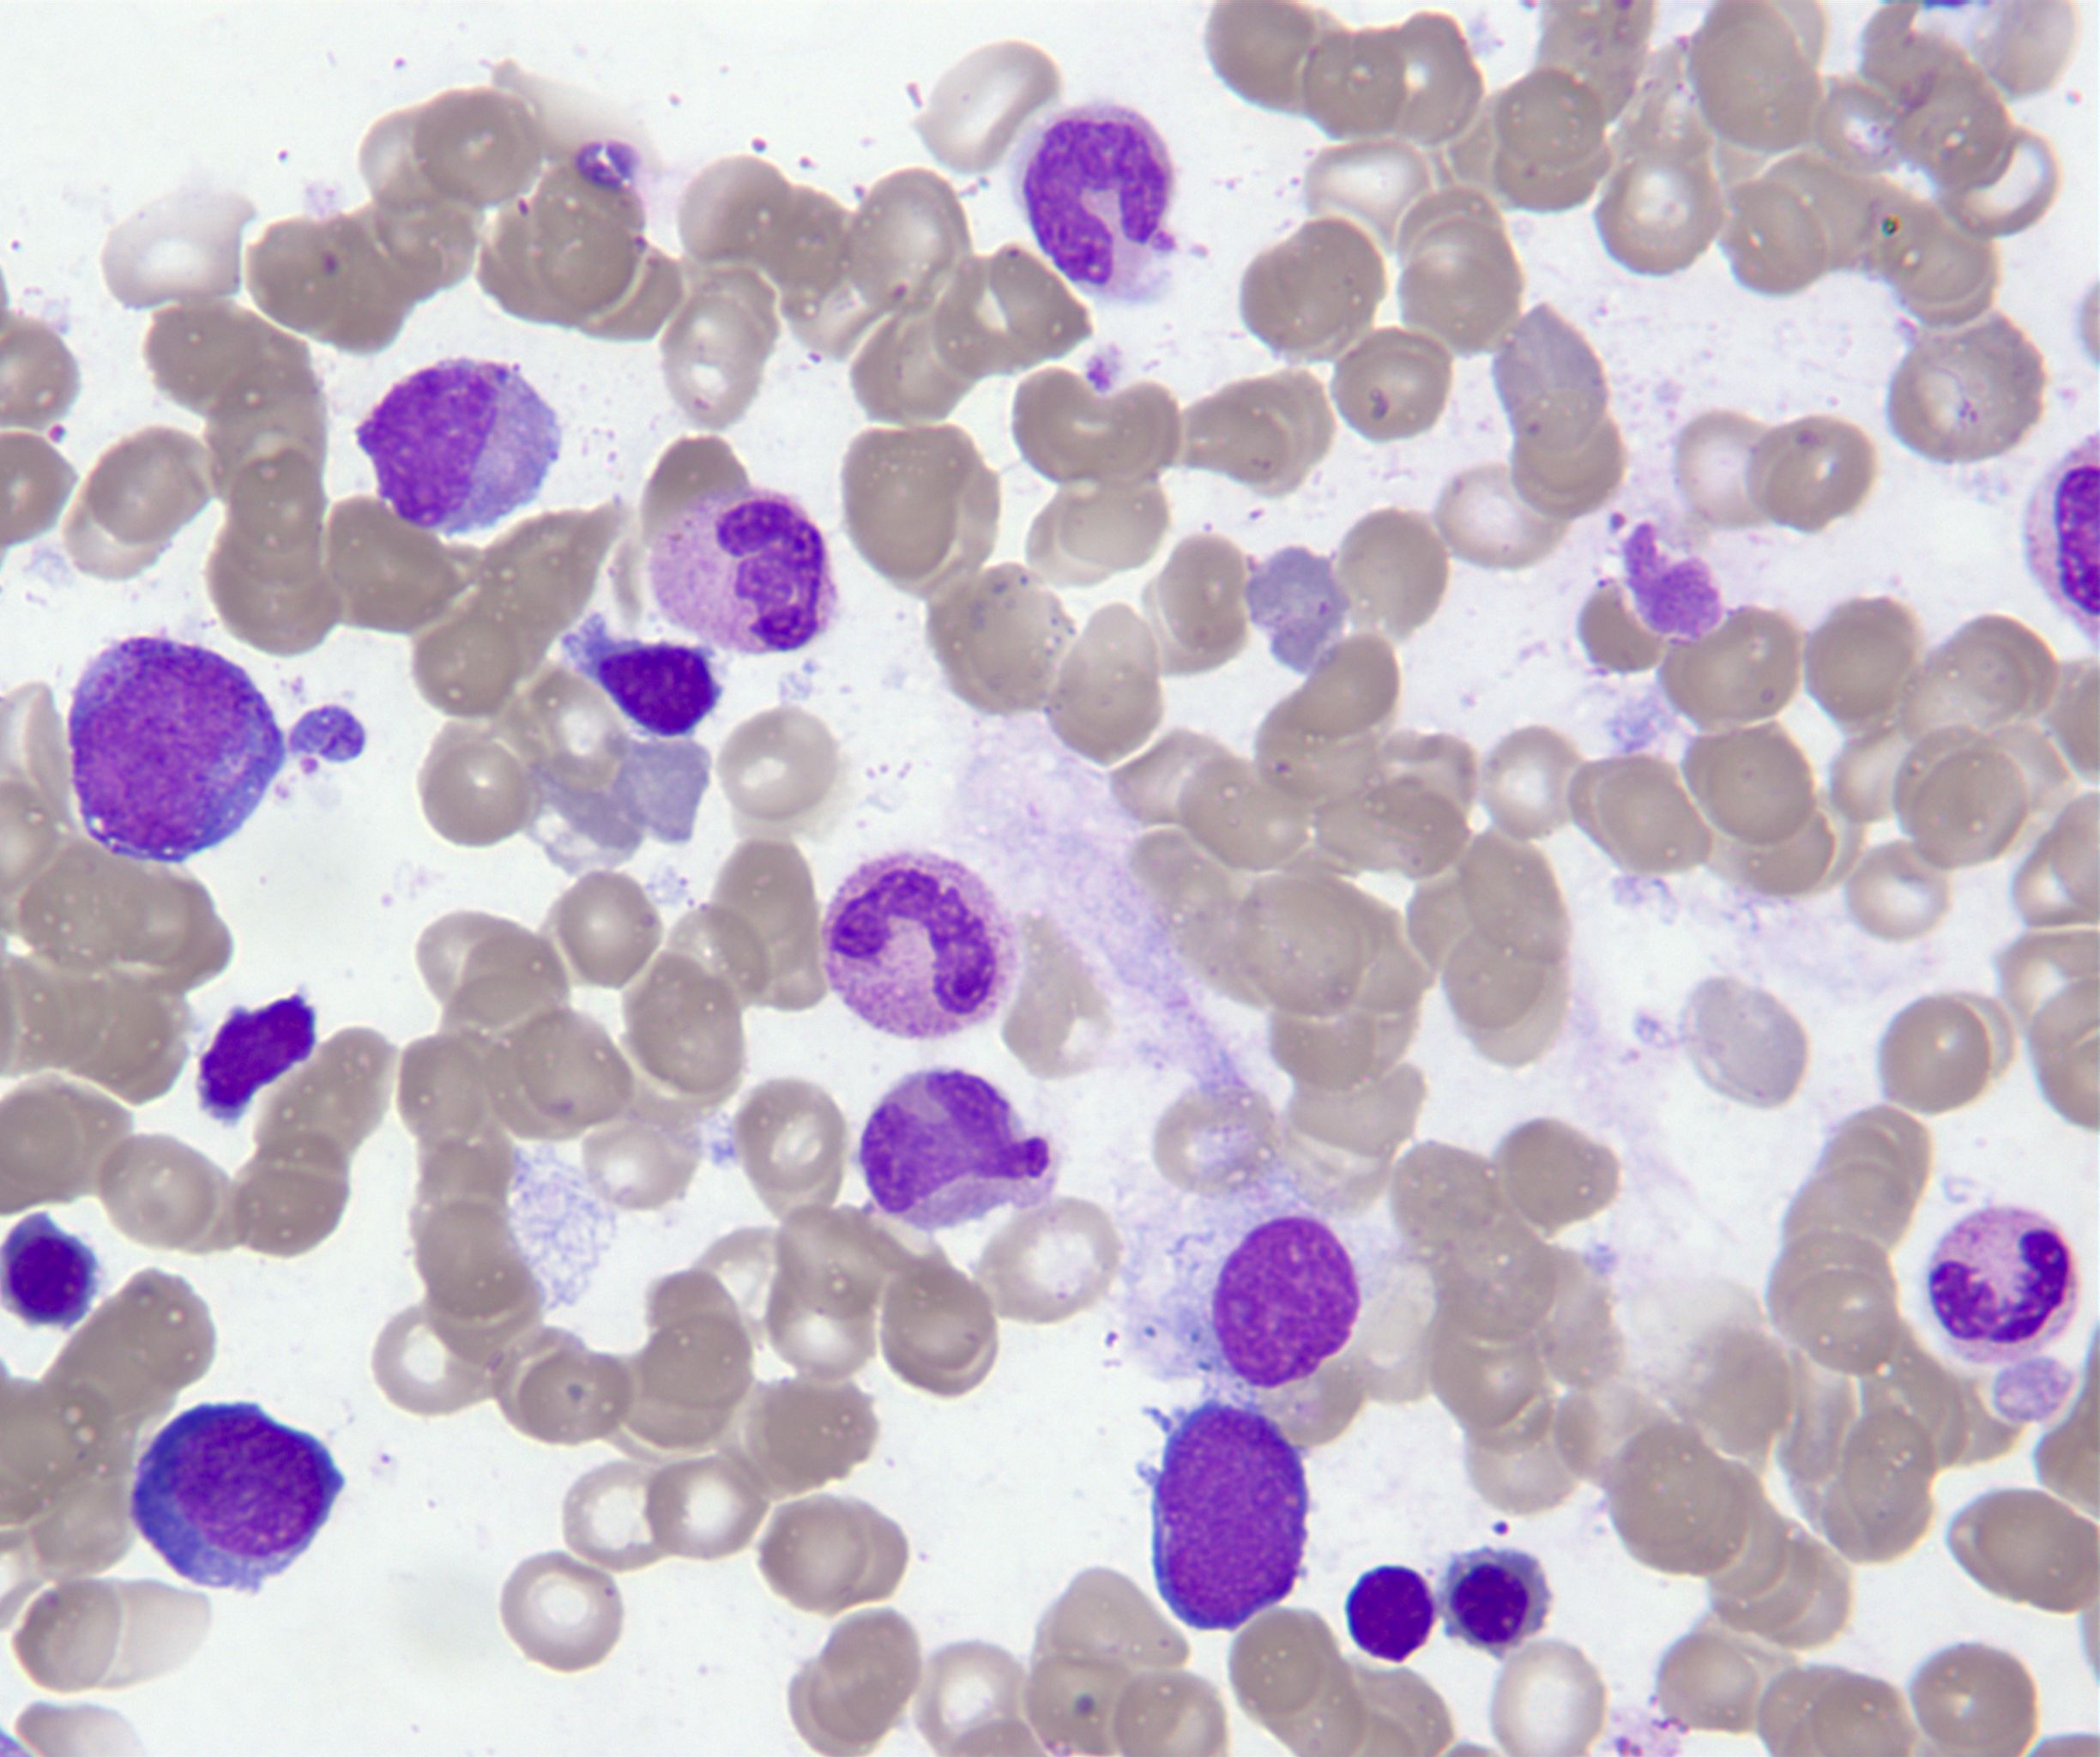2: (63, 628, 288, 871), (1137, 1406, 1315, 1638)
23: (126, 1394, 349, 1600)
24: (1439, 1542, 1558, 1663), (0, 1206, 101, 1338)
3: (347, 347, 567, 539)
32: (551, 605, 729, 743), (192, 988, 319, 1127), (1338, 1562, 1441, 1668)
4: (855, 1059, 1067, 1239)
5: (815, 843, 1026, 1049), (999, 94, 1184, 304), (1919, 1197, 2088, 1377)
6: (633, 482, 846, 660)
x: (1200, 1202, 1369, 1394)
